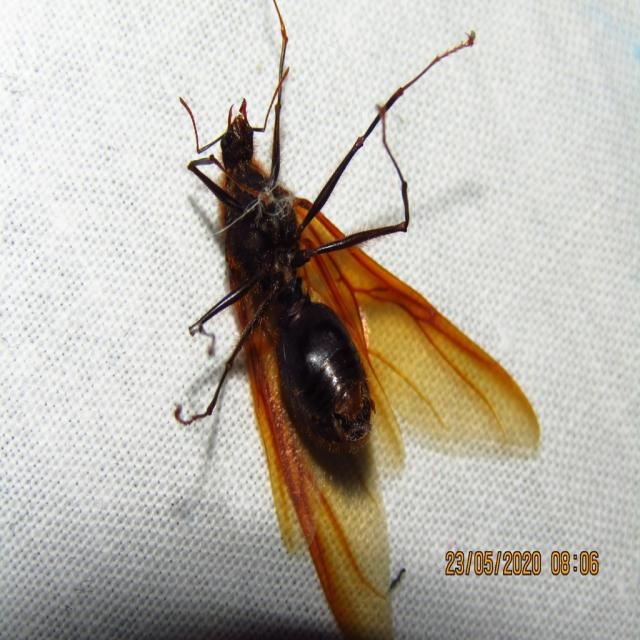Dead-Male-Alate: (175, 0, 540, 640)
